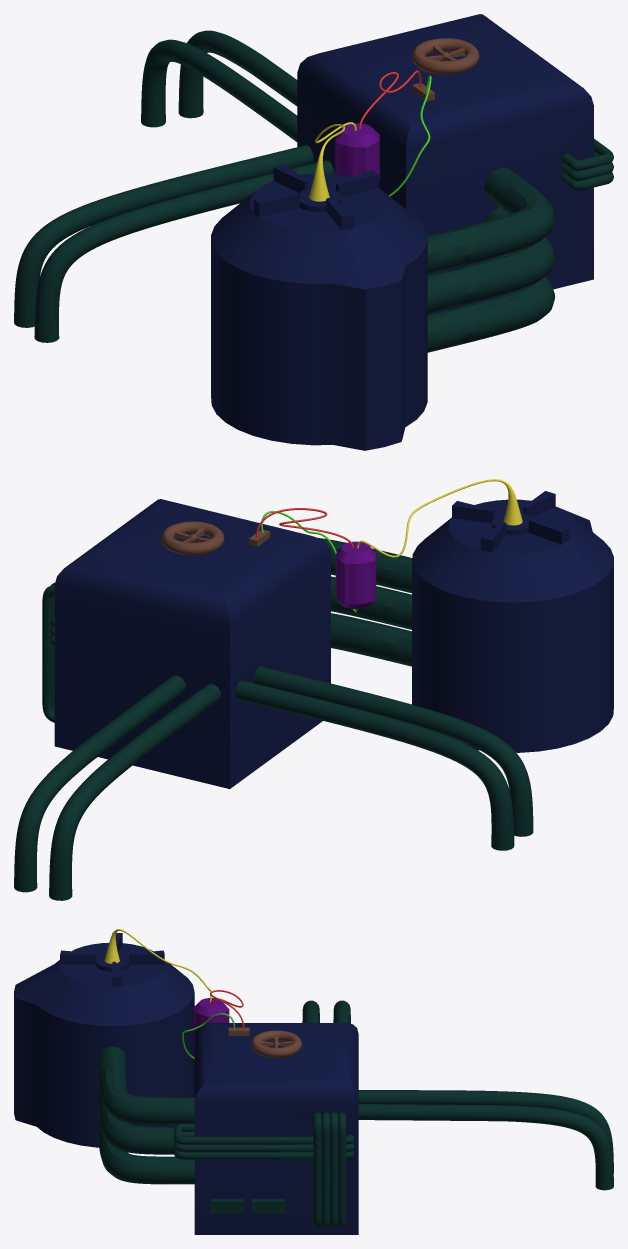
The model's file is Machine.fbx.
The picture shows the model from 3 angles, top to bottom: view 1: azimuth 30°, elevation 25°; view 2: azimuth 150°, elevation 25°; view 3: azimuth 270°, elevation 25°; orthographic projection. The views are drawn at different scales.
Parts seen in each view (by area): view 1: Cube.002, Cube, Cylinder.001, Cube.003, NurbsPath.015; view 2: Cube.002, Cube, Cylinder.001, Cube.003, NurbsPath.015; view 3: Cube.002, Cube, Cube.003, Cylinder.001, NurbsPath.015.
Part boxes in pixels (x1,y1,x2,y2): Cube.002: (211,14,593,450); Cube: (14,30,613,352); Cylinder.001: (334,123,379,178); Cube.003: (412,38,479,74); NurbsPath.015: (309,122,356,201); Cube.002: (54,491,613,788); Cube: (14,538,533,900); Cylinder.001: (335,541,376,609); Cube.003: (161,521,224,555); NurbsPath.015: (357,479,522,557); Cube.002: (14,932,358,1234); Cube: (98,1000,613,1227); Cube.003: (251,1030,302,1057); Cylinder.001: (192,998,229,1043); NurbsPath.015: (104,929,211,1002).
Size of the model in its own units: 536 by 254 by 731.
